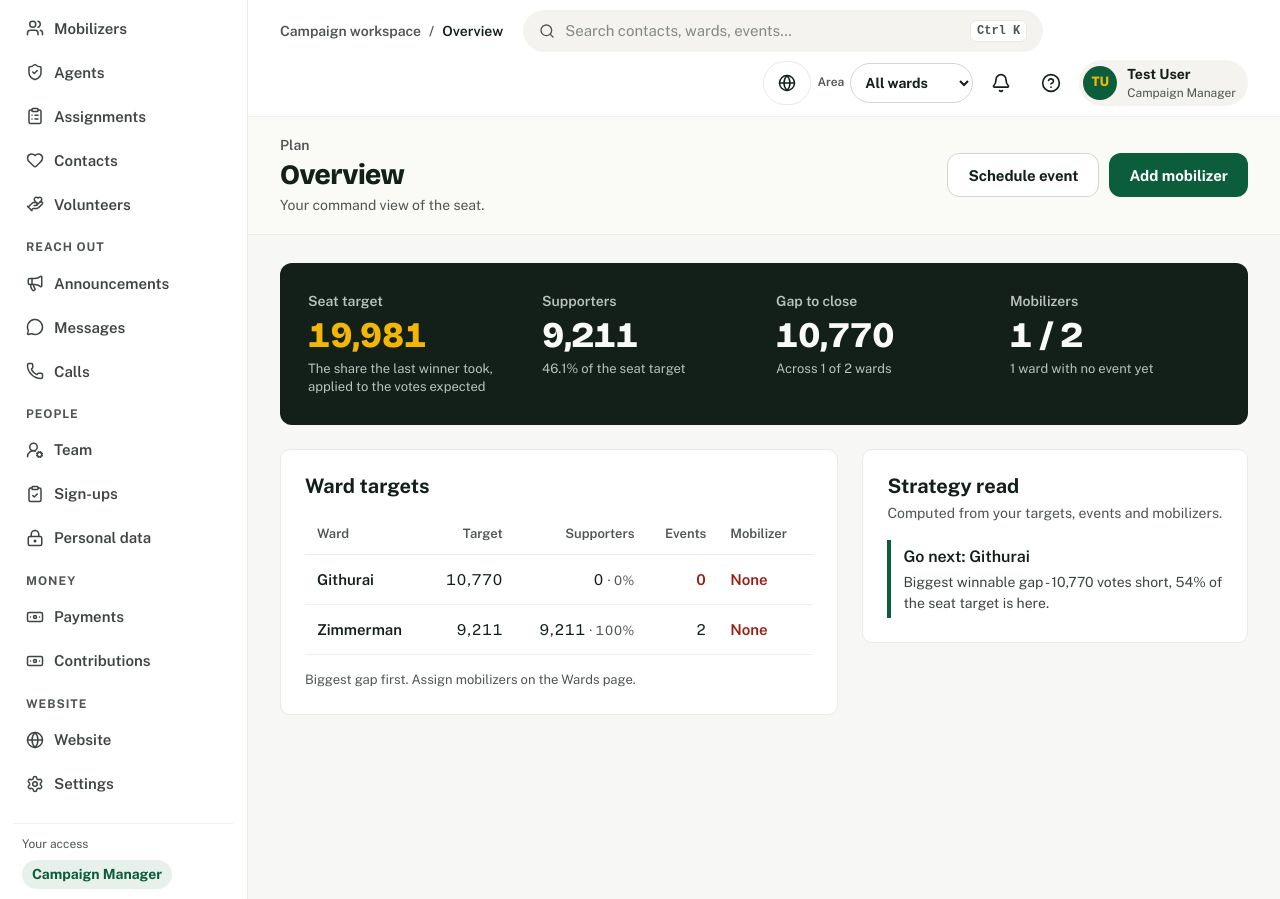
Test: the team page › offers the manager no password reset
The image size is (1280, 899).
(page scrolled)
What coordinates should you click on to do the following:
click the link "Team"
I would click on:
 (59, 450)
Its box is [26,441,92,459].
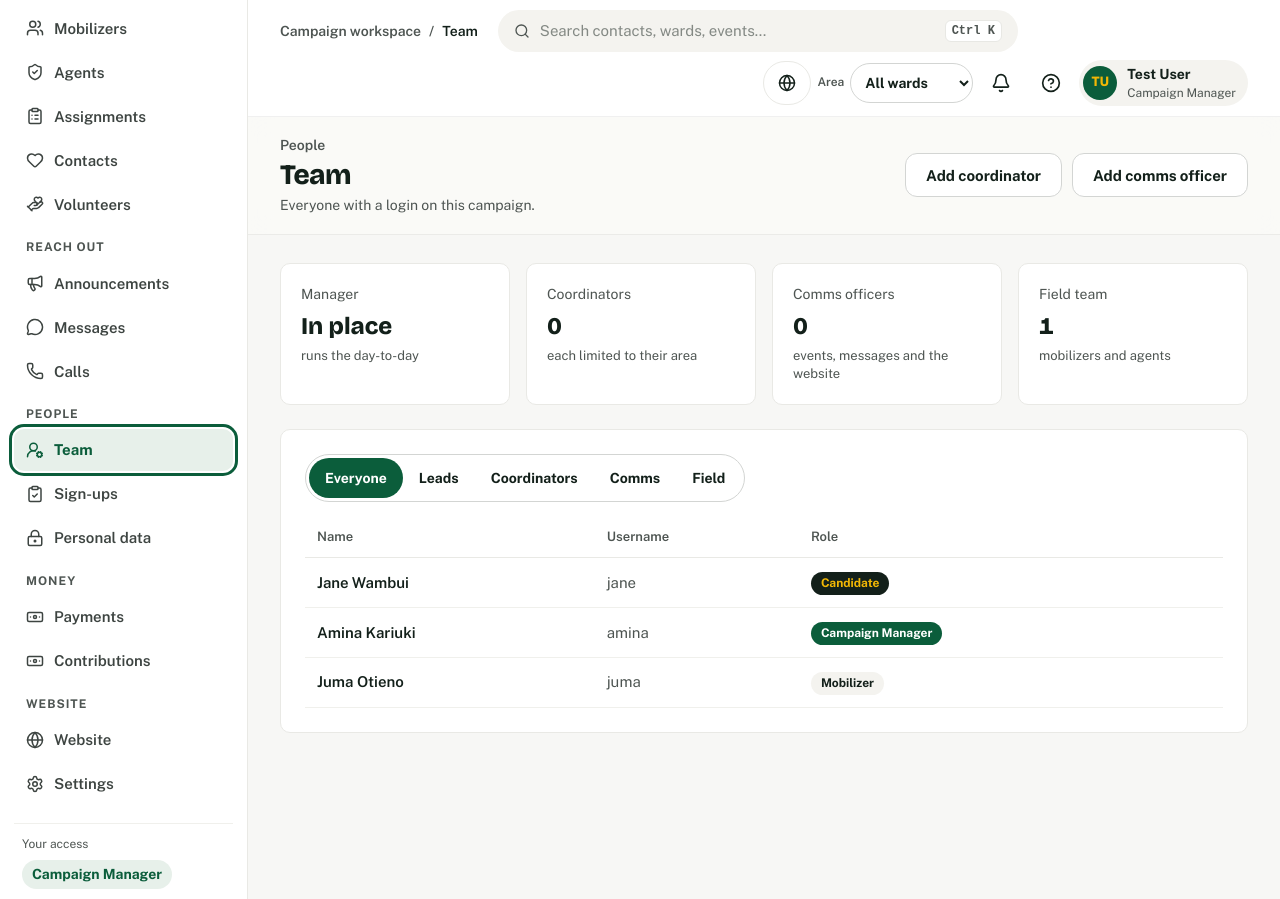
Expected: the text "Amina Kariuki" is shown, [305,607,595,657]
